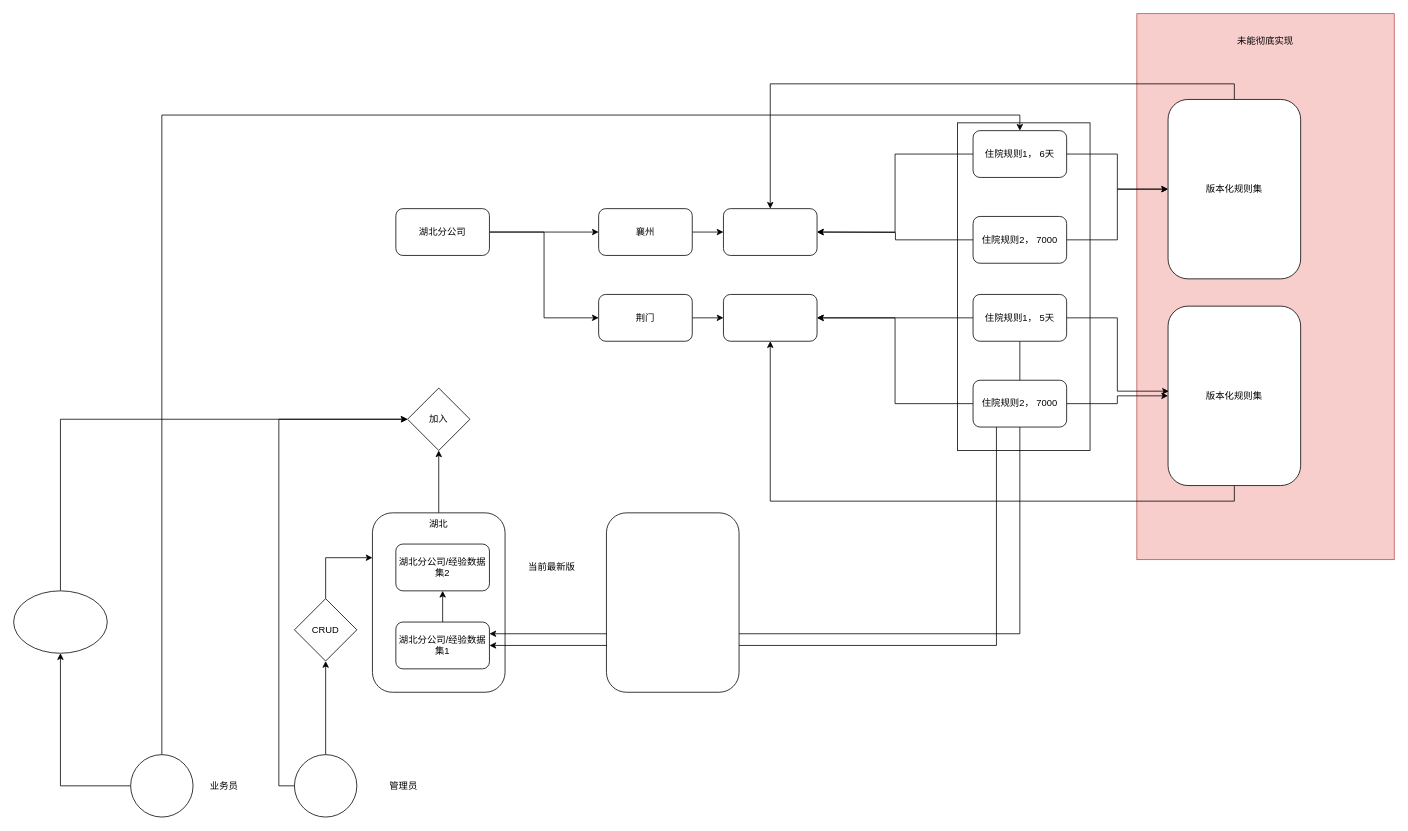
This 1408x831 diagram has some shape labels left out. The centre of each missing label's shape, as x and y in pixels:
"全国" goes at pixel 672 602.
"场景列表" goes at pixel 161 785.
"弹窗" goes at pixel 60 621.
"荆门/3月份" goes at pixel 770 317.
"襄州/4月份" goes at pixel 770 231.
"通用场景管理" goes at pixel 325 785.
